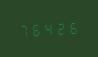four: (42, 20, 53, 36)
seven: (18, 21, 29, 38)
six: (30, 20, 41, 37), (66, 19, 77, 35)
two: (54, 19, 65, 36)
